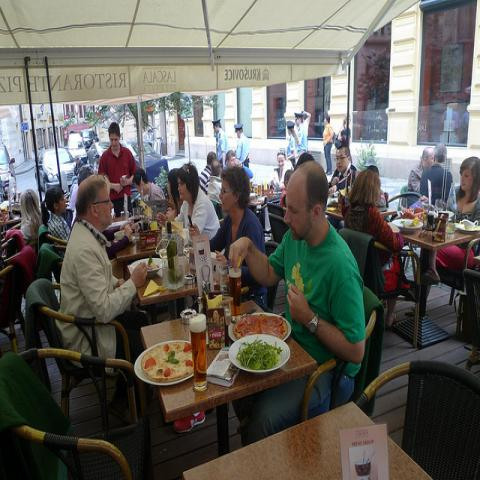car: (36, 147, 75, 192), (0, 142, 17, 197), (67, 139, 88, 163), (87, 142, 110, 163)
